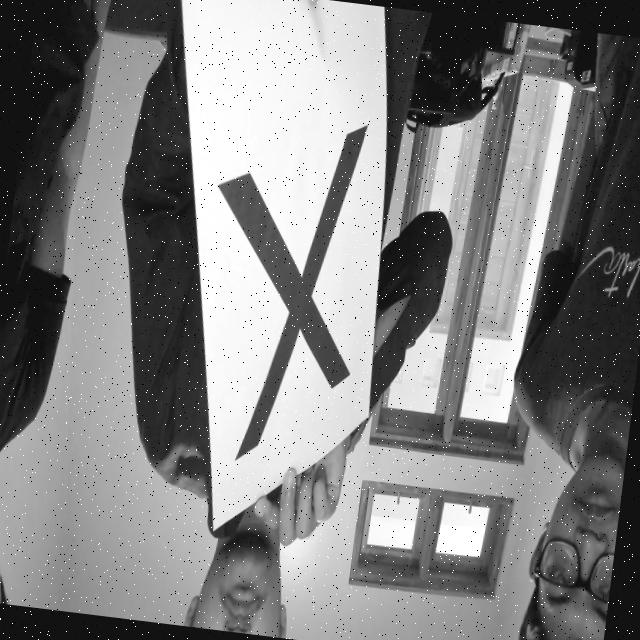x: (170, 89, 386, 482)
